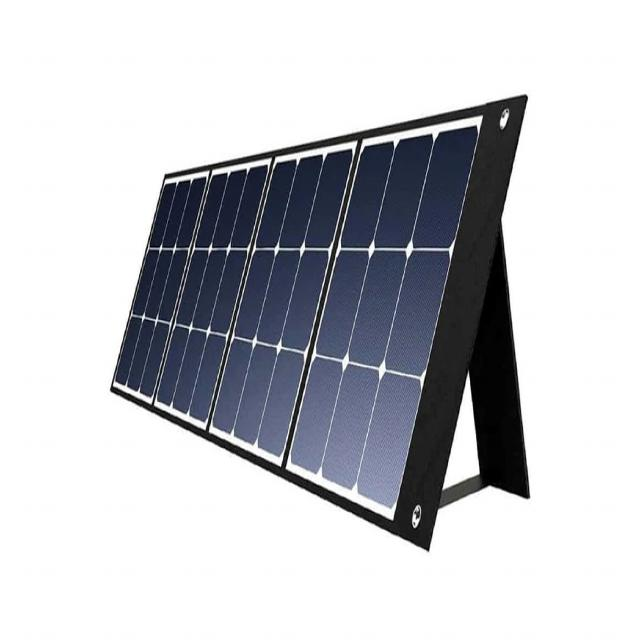no faulty: (107, 115, 477, 529)
